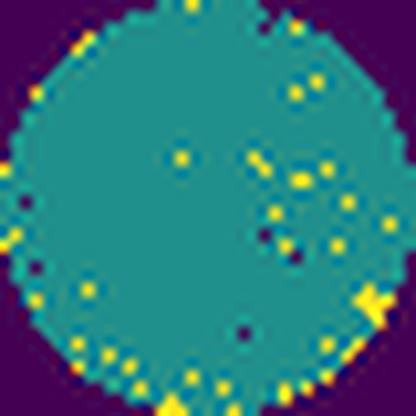Edge-Loc: (353, 273, 396, 328), (152, 391, 192, 416)
